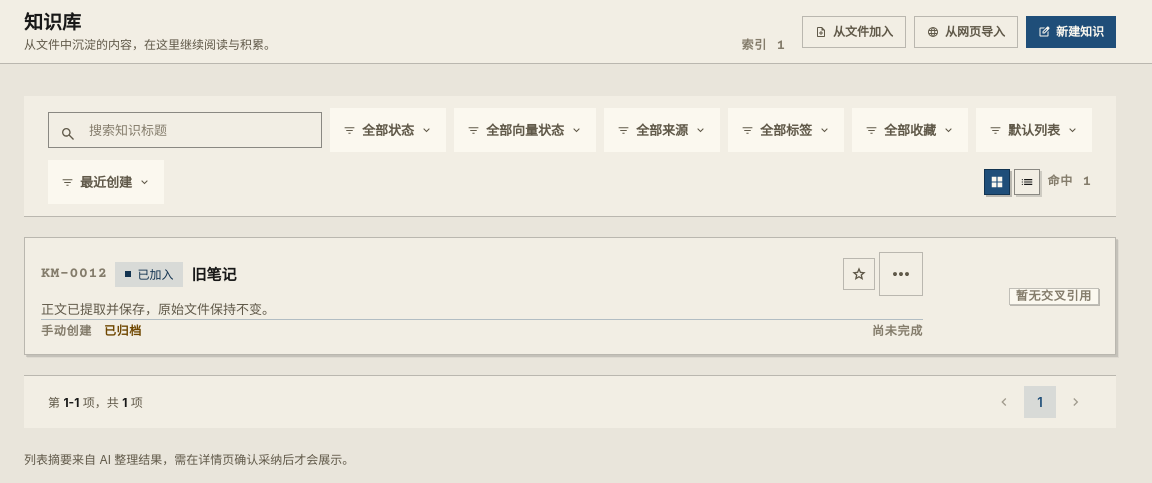
KnowledgeLibrary › restores an archived knowledge from the menu
Click the button named "更多操作 旧笔记". click: (901, 274)
box: [879,252,923,296]
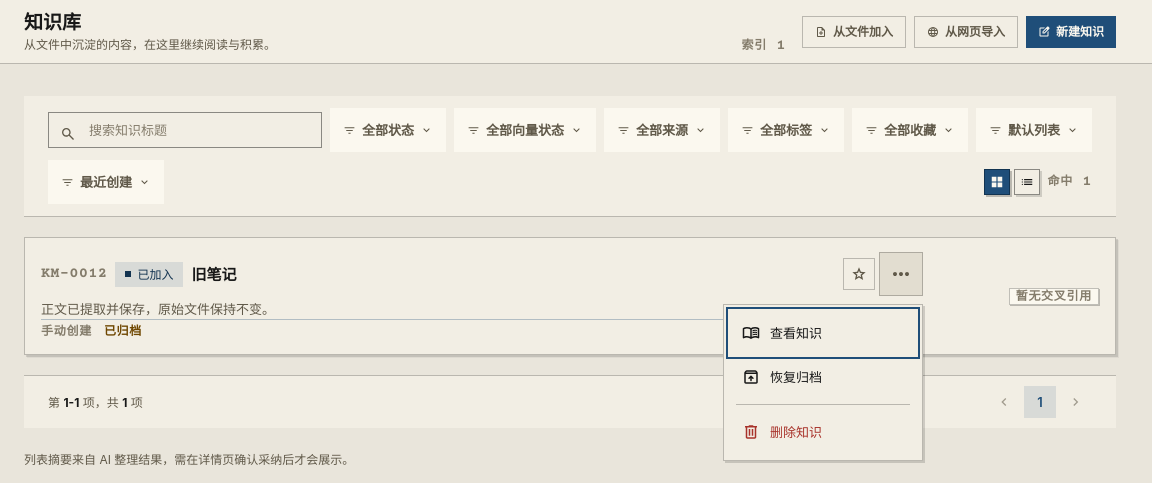
expect the menu item with aria-label "恢复归档 旧笔记" is shown: met
Click the menu item with aria-label "恢复归档 旧笔记". click: (823, 377)
box: [730,355,916,399]
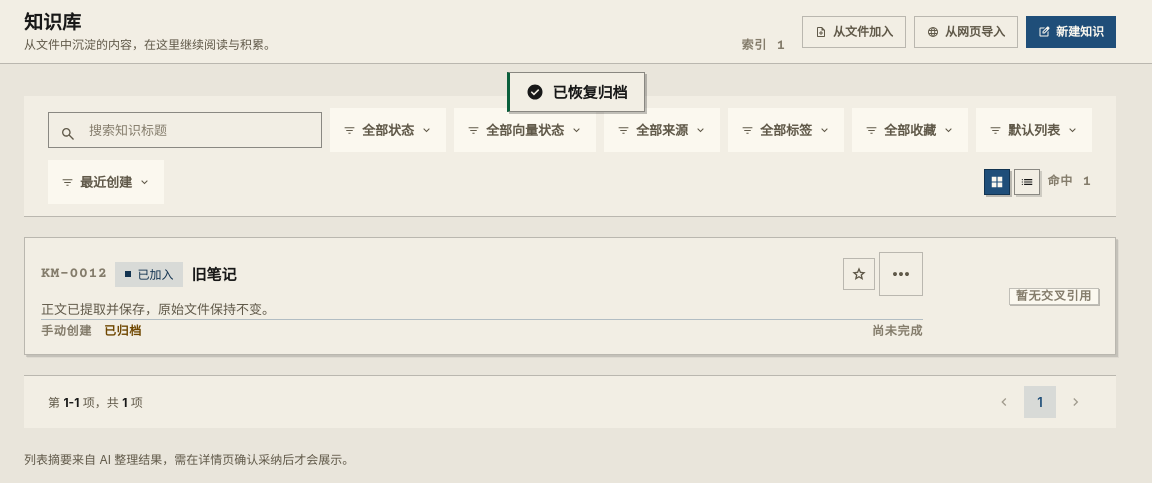
expect the text "已恢复归档" is shown: met, box [552,82,628,102]
